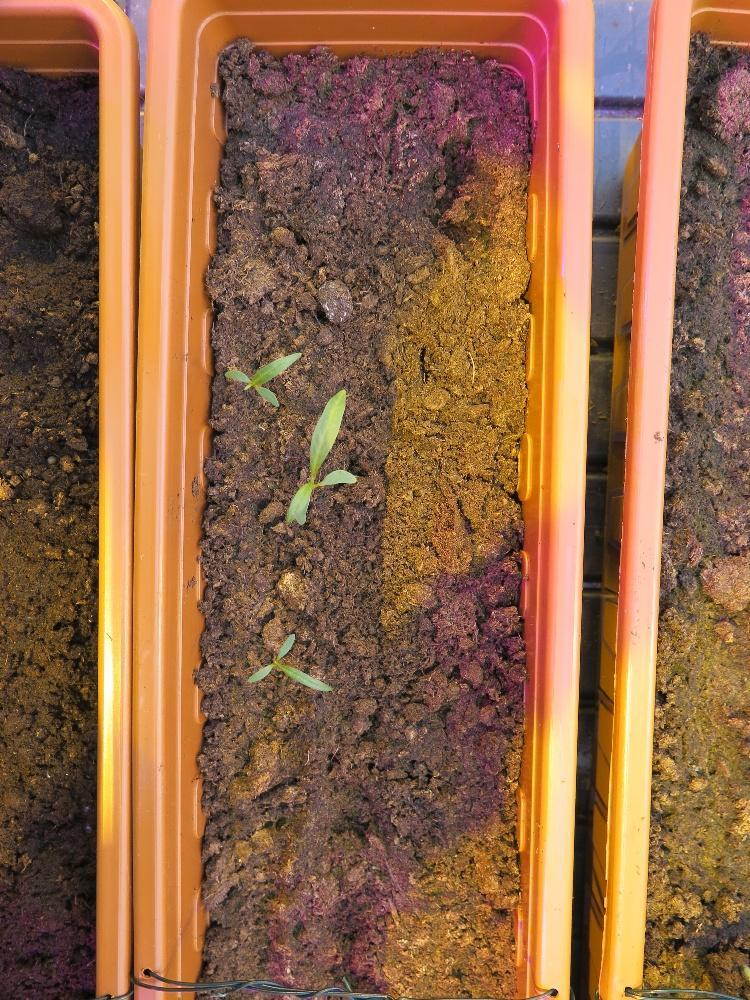weed: (284, 384, 356, 526), (246, 628, 333, 694), (223, 348, 301, 412)
